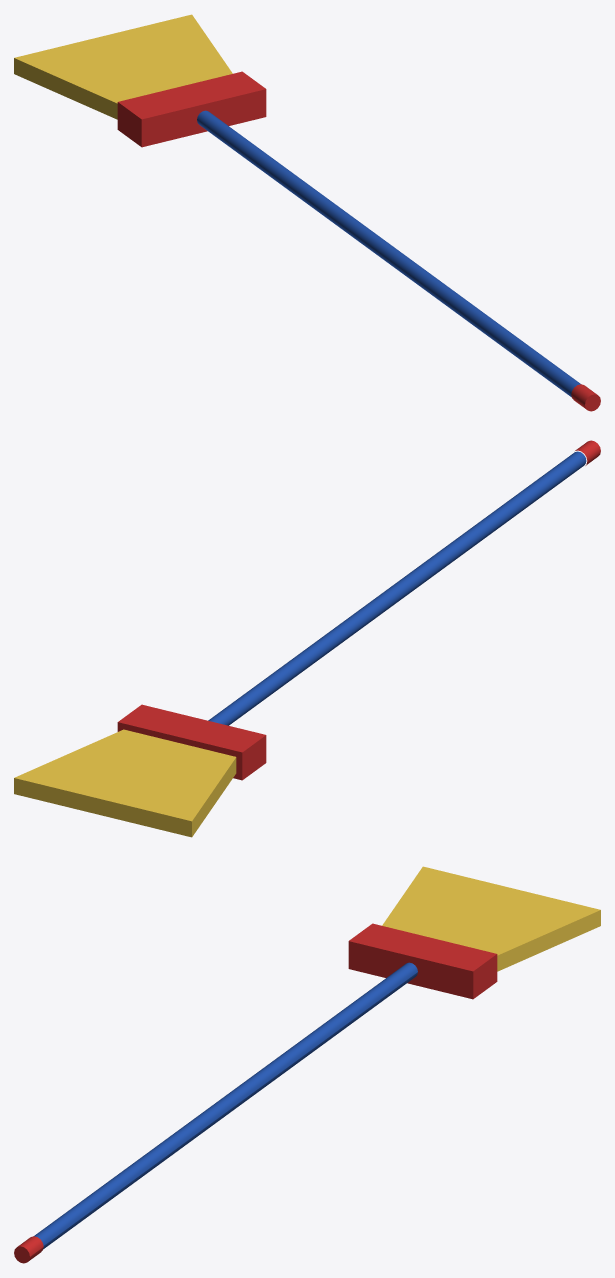
File: broom.glb
The picture shows the model from 3 angles, top to bottom: view 1: azimuth 30°, elevation 25°; view 2: azimuth 150°, elevation 25°; view 3: azimuth 330°, elevation 25°; orthographic projection.
Parts seen in each view (by area): view 1: Broom; view 2: Broom; view 3: Broom.
Boxes of the visible parts, <box> form: Broom: <box>14,14,600,411</box>; Broom: <box>14,440,600,837</box>; Broom: <box>14,866,600,1263</box>.
Size of the model in its own units: 0.3 by 0.045 by 1.43.
